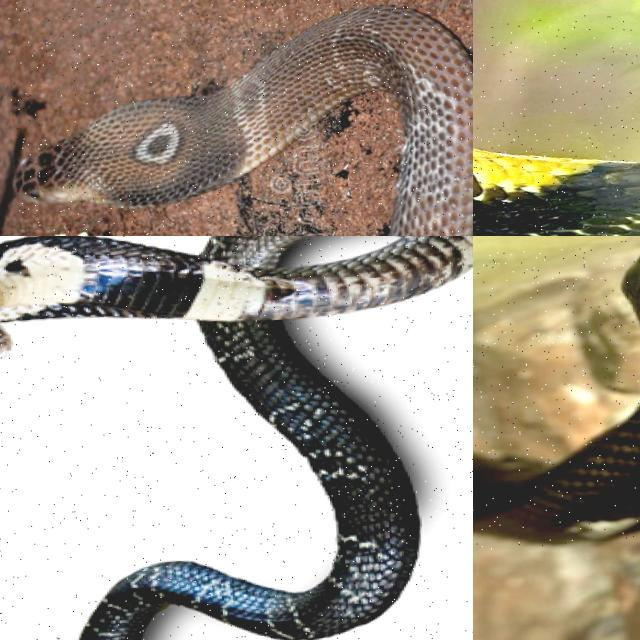Naja kaouthia: (17, 5, 472, 235)
Naja siamensis: (0, 236, 472, 639), (473, 407, 639, 544)
Ophiophagus hannah: (473, 148, 639, 235)
